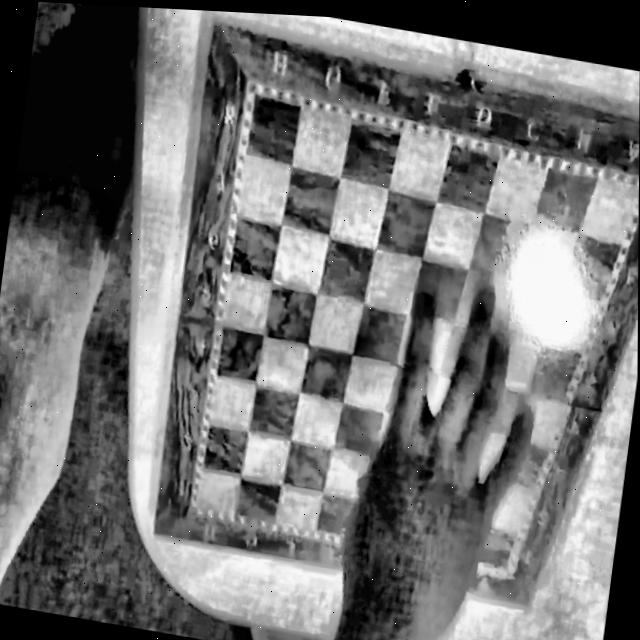chessboard: (153, 25, 639, 608)
